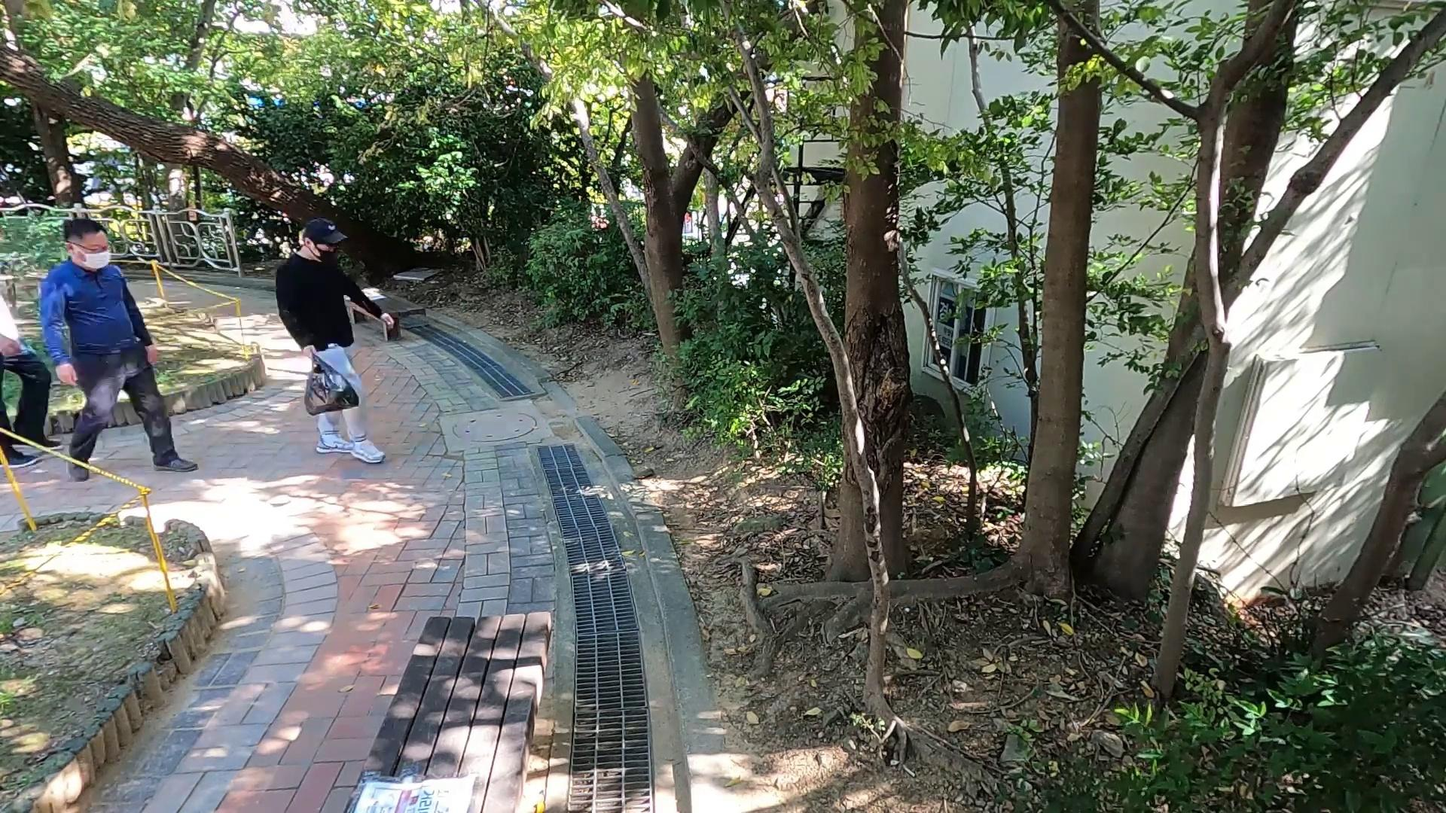person: (39, 217, 201, 480), (276, 220, 395, 463), (0, 283, 62, 470)
trash: (300, 356, 363, 415)
